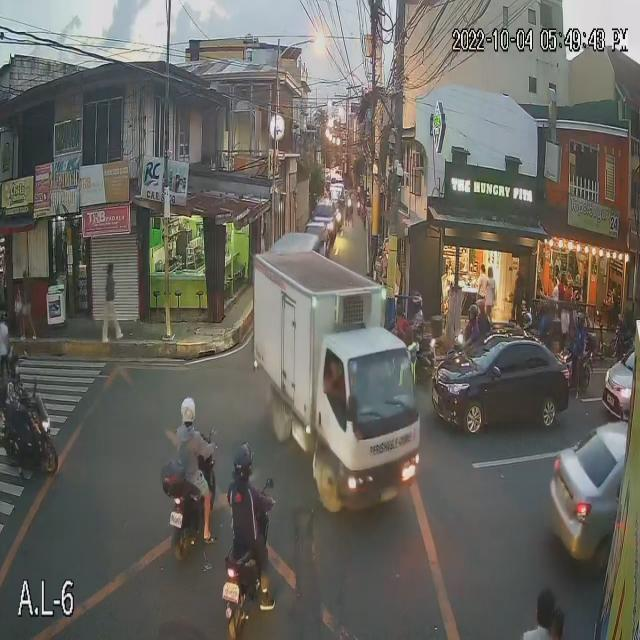helmet: (233, 444, 258, 479), (181, 394, 206, 428), (2, 347, 24, 382), (474, 290, 493, 319), (410, 289, 429, 317), (518, 306, 536, 332), (573, 312, 591, 332), (464, 303, 478, 326)
motorcycle: (165, 451, 217, 571), (0, 390, 65, 483), (226, 502, 276, 622), (562, 347, 597, 393)
rider: (166, 384, 219, 489), (227, 438, 265, 558), (1, 337, 27, 443), (409, 286, 434, 346), (457, 302, 482, 355), (470, 291, 495, 344), (518, 307, 537, 353), (574, 306, 588, 359)
